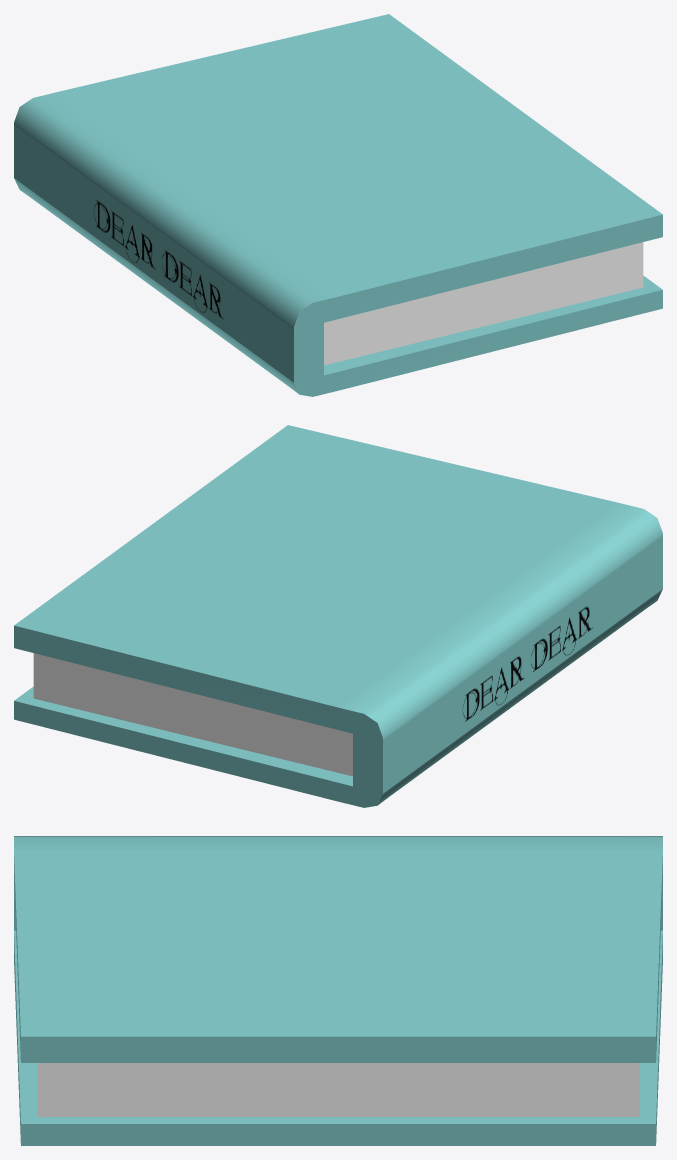
Rendered from furniture_decor_210000.glb.
3 renders of one model, top to bottom at view 1: azimuth 30°, elevation 25°; view 2: azimuth 150°, elevation 25°; view 3: azimuth 270°, elevation 25°, orthographic. The views are drawn at different scales.
Parts seen in each view (by area): view 1: furniture_decor_210000; view 2: furniture_decor_210000; view 3: furniture_decor_210000.
Part boxes in pixels (x1,y1,x2,y2): furniture_decor_210000: [14, 14, 662, 396]; furniture_decor_210000: [14, 425, 662, 807]; furniture_decor_210000: [14, 836, 662, 1145].
Bounding box in the file's own units: 0.1987 × 0.048 × 0.2589.
Materials: 1 (1 with a texture image).
